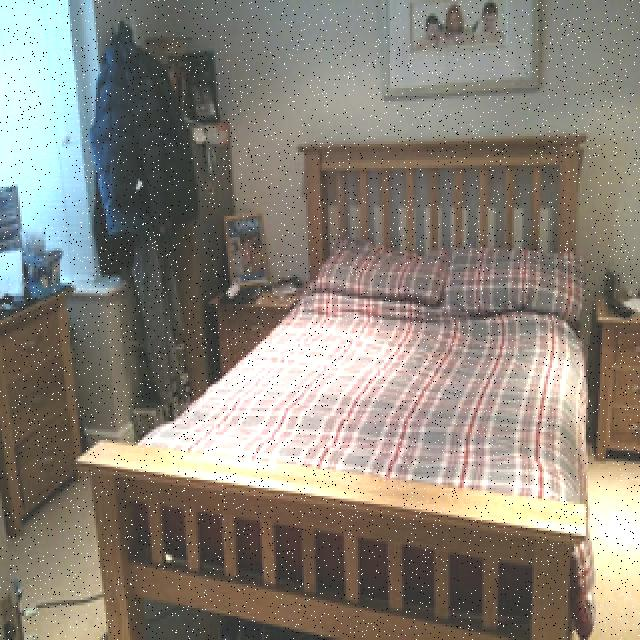bed: (113, 228, 603, 612)
